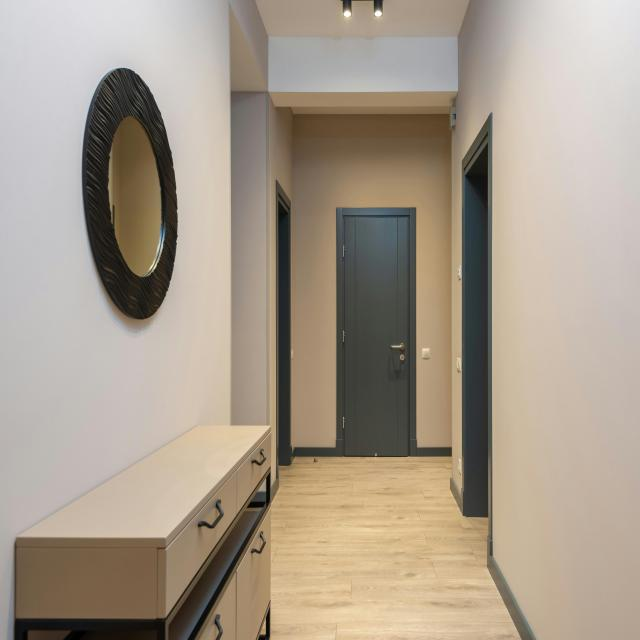door-handle: (390, 344, 405, 350)
